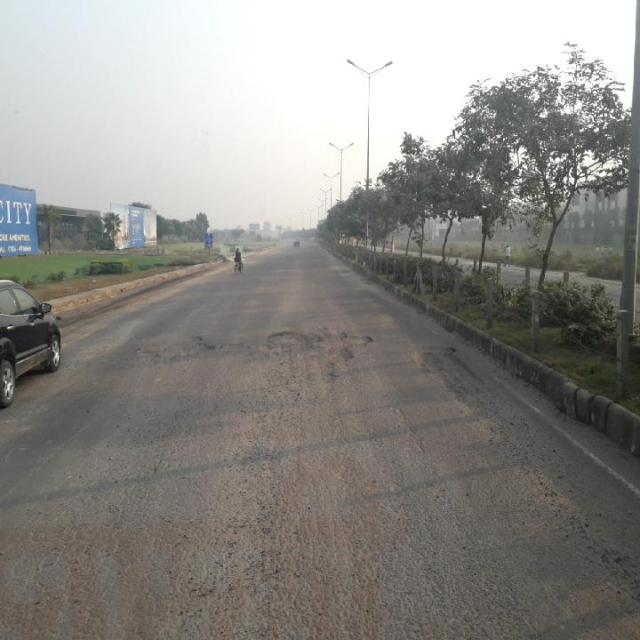Surface Erosion: (177, 257, 480, 475)
